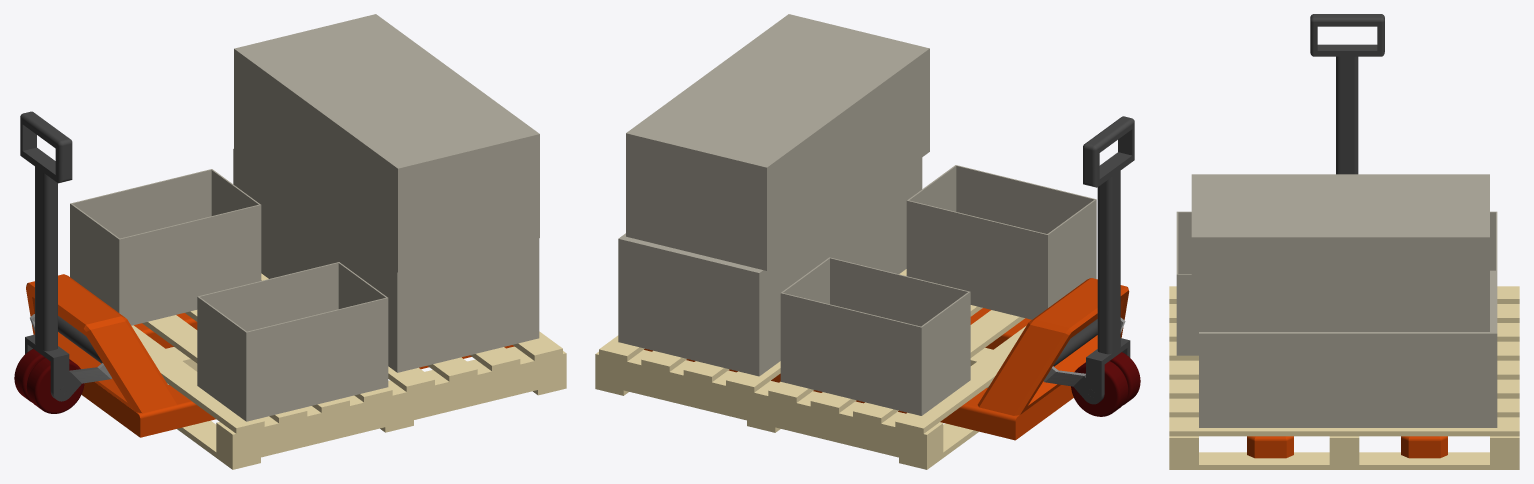
File: pallet_assembly.dae
The picture shows the model from 3 angles, left to right: view 1: azimuth 30°, elevation 25°; view 2: azimuth 150°, elevation 25°; view 3: azimuth 270°, elevation 25°; orthographic projection. The views are drawn at different scales.
Parts seen in each view (by area): view 1: Part 1 (×5), Endstop_001, Handle_001, Forks_001, Left_Wheel_001, Wheel_Joint_Right_001, Right_Wheel_001, Axle_001; view 2: Part 1 (×5), Endstop_001, Handle_001, Forks_001, Right_Wheel_001, Wheel_Joint_Left_001, Left_Wheel_001, Axle_001; view 3: Part 1 (×5), Handle_001, Forks_001.
Boxes of the visible parts, x1,y1,x2,y2 form: Part 1 (×5): (70, 14, 566, 469); Endstop_001: (26, 274, 178, 412); Handle_001: (20, 111, 72, 351); Forks_001: (81, 313, 514, 437); Left_Wheel_001: (26, 358, 84, 413); Wheel_Joint_Right_001: (50, 360, 81, 401); Right_Wheel_001: (14, 349, 45, 402); Axle_001: (58, 316, 102, 363); Part 1 (×5): (595, 14, 1096, 469); Endstop_001: (977, 278, 1129, 415); Handle_001: (1083, 116, 1134, 354); Forks_001: (644, 308, 1073, 440); Right_Wheel_001: (1071, 361, 1128, 416); Wheel_Joint_Left_001: (1073, 363, 1104, 404); Left_Wheel_001: (1110, 352, 1140, 405); Axle_001: (1053, 319, 1097, 366); Part 1 (×5): (1169, 174, 1519, 469); Handle_001: (1310, 14, 1384, 174); Forks_001: (1247, 436, 1447, 458).
Size of the model in its own units: 1.59 by 1.19 by 1.
